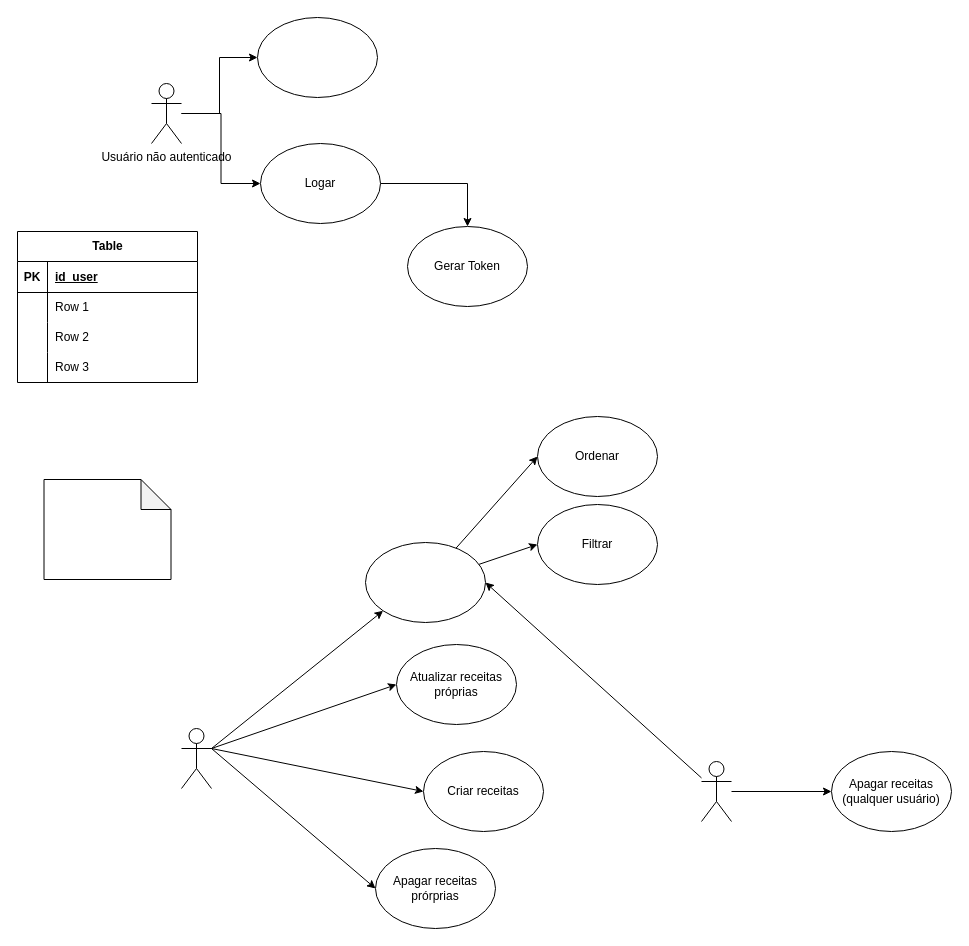
The diagram is 969 pixels wide and 946 high, and some of its shapes have lost their labels. Each missing label, with the centre of its shape:
"Admin Autenticado" goes at (716,791).
"Cadastrar" goes at (317,57).
"Filtrar por: - Nome do Autor - Título" goes at (107,529).
"Usuário Autenticado" goes at (196,758).
"Ver todas as receitas" goes at (425,582).
